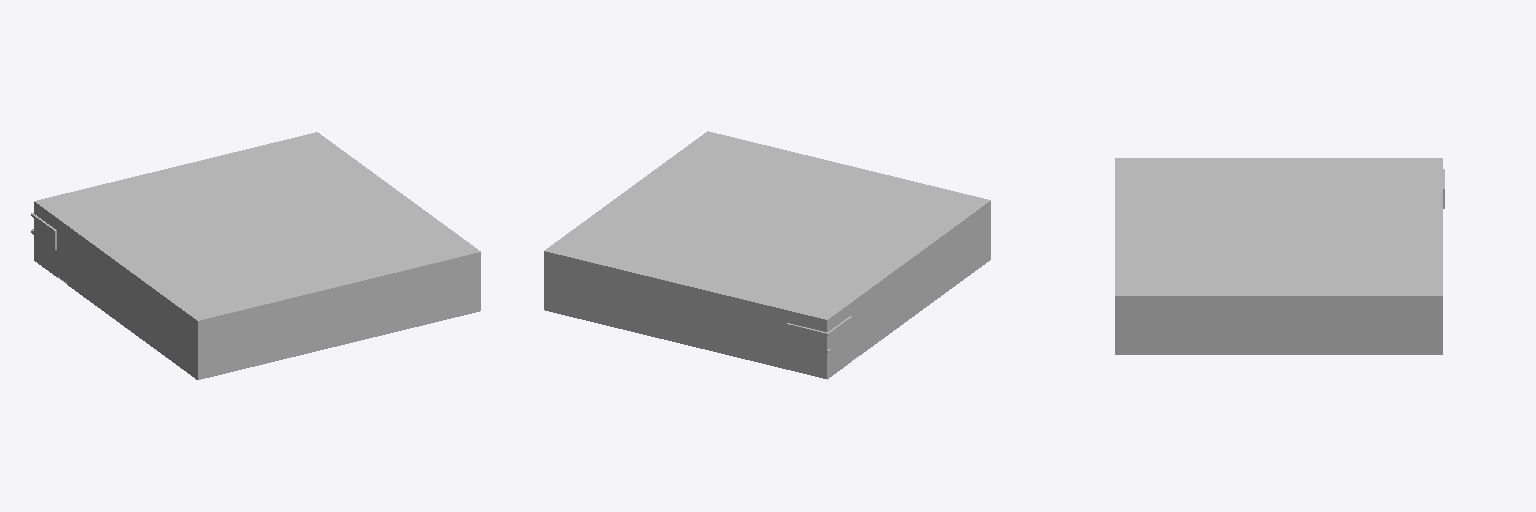
File: steripure.obj
The picture shows the model from 3 angles: view 1: azimuth 30°, elevation 25°; view 2: azimuth 150°, elevation 25°; view 3: azimuth 270°, elevation 25°; orthographic projection.
Visible parts, largest first — view 1: Cube_Cube.001; view 2: Cube_Cube.001; view 3: Cube_Cube.001.
Part boxes in pixels (bbox=[...]): Cube_Cube.001: bbox=[31, 132, 480, 379]; Cube_Cube.001: bbox=[544, 131, 990, 379]; Cube_Cube.001: bbox=[1115, 158, 1444, 354].
Bounding box in the file's own units: 13.09 × 2.6 × 13.09.